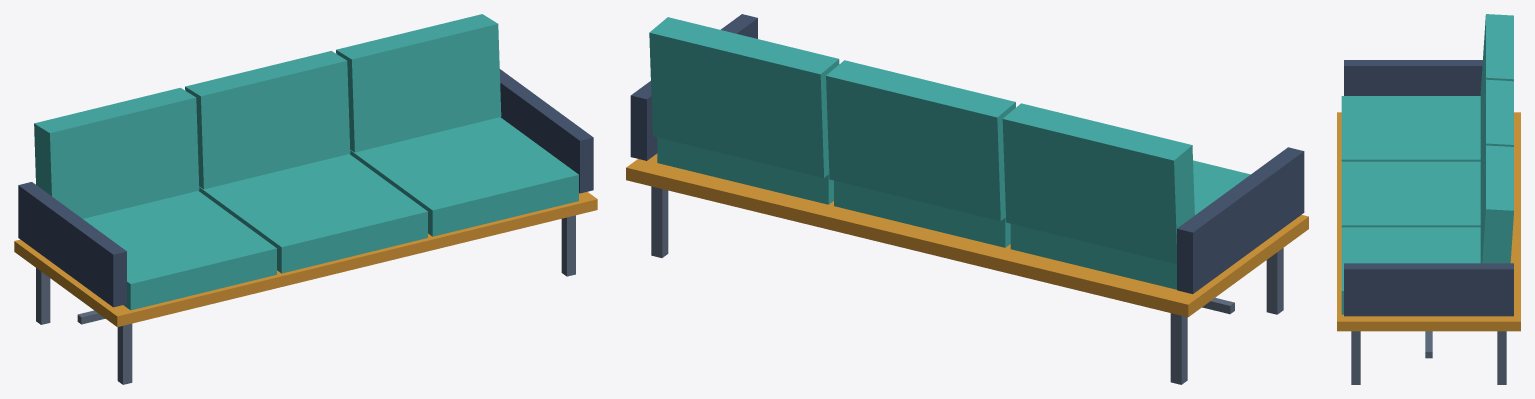
Rendered from bangku_lobi.glb.
3 views of the same model, side by side, from view 1: azimuth 30°, elevation 25°; view 2: azimuth 150°, elevation 25°; view 3: azimuth 270°, elevation 25° (orthographic). The views are drawn at different scales.
Parts seen in each view (by area): view 1: Bangku_Lobi_Kampus; view 2: Bangku_Lobi_Kampus; view 3: Bangku_Lobi_Kampus.
Part boxes in pixels (x1,y1,x2,y2): Bangku_Lobi_Kampus: (14, 14, 597, 384); Bangku_Lobi_Kampus: (626, 14, 1308, 384); Bangku_Lobi_Kampus: (1337, 14, 1520, 384).
Bounding box in the file's own units: 2.1 × 0.8183 × 0.78.
